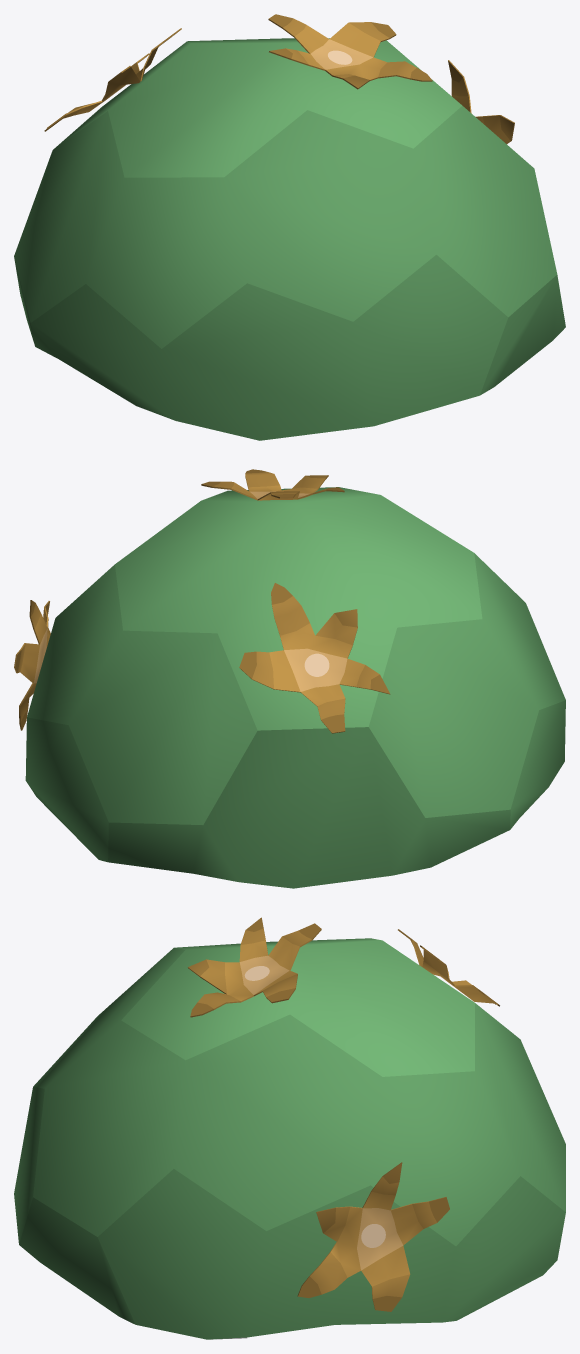
Rendered from orangebushallflowers.fbx.
3 renders of one model, top to bottom at view 1: azimuth 30°, elevation 25°; view 2: azimuth 150°, elevation 25°; view 3: azimuth 270°, elevation 25°, orthographic. The views are drawn at different scales.
Parts seen in each view (by area): view 1: pSolid1, pasted__pDisc2 (×2), pDisc2; view 2: pSolid1, pDisc2, pasted__pDisc2 (×2); view 3: pSolid1, pasted__pDisc2 (×2), pDisc2.
Part boxes in pixels (x1=…): pSolid1: x1=14, y1=38, x2=565, y2=440; pasted__pDisc2 (×2): x1=268, y1=14, x2=514, y2=143; pDisc2: x1=44, y1=28, x2=181, y2=131; pSolid1: x1=25, y1=487, x2=565, y2=888; pDisc2: x1=239, y1=583, x2=390, y2=733; pasted__pDisc2 (×2): x1=14, y1=469, x2=344, y2=730; pSolid1: x1=14, y1=938, x2=565, y2=1339; pasted__pDisc2 (×2): x1=188, y1=917, x2=449, y2=1311; pDisc2: x1=398, y1=929, x2=499, y2=1006.
Bounding box in the file's own units: 2.01 × 1.21 × 1.95.
